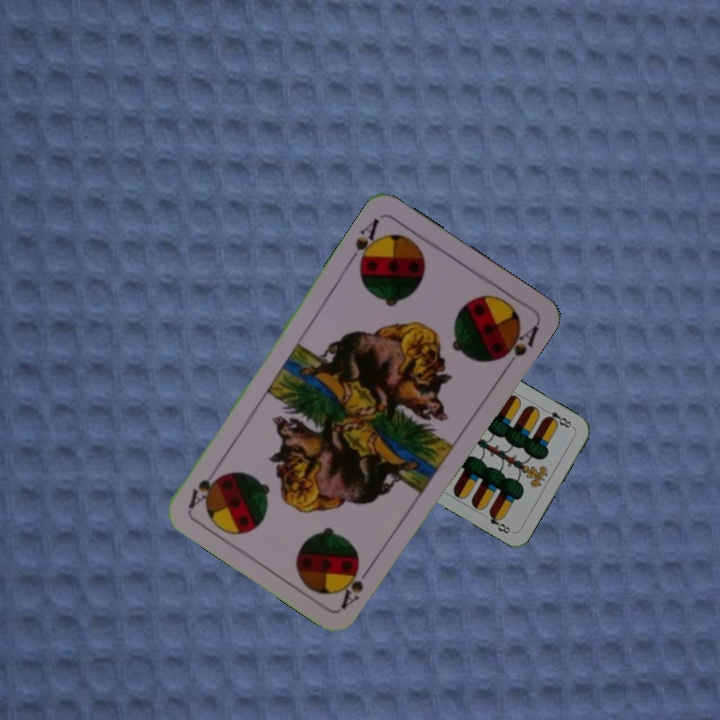E8: (540, 405, 576, 431)
SA: (344, 214, 385, 272), (336, 559, 376, 612)
